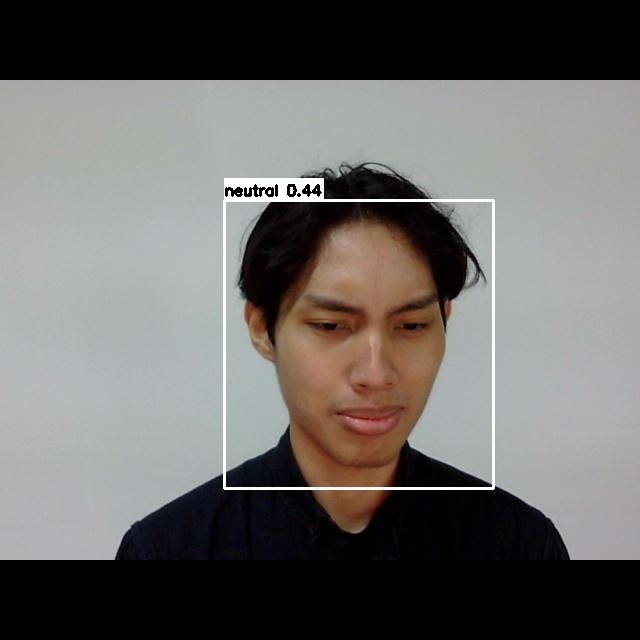Disgust: (280, 271, 452, 456)
